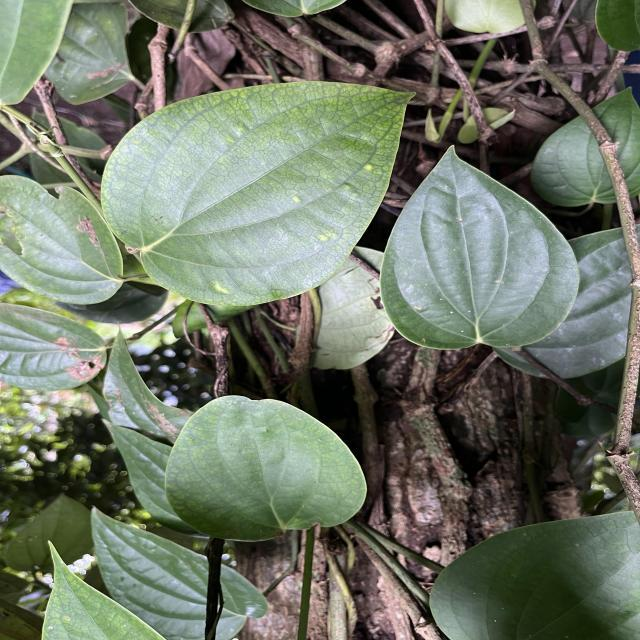Piper nigrum: (98, 79, 420, 309), (376, 142, 582, 351), (163, 394, 370, 544)
